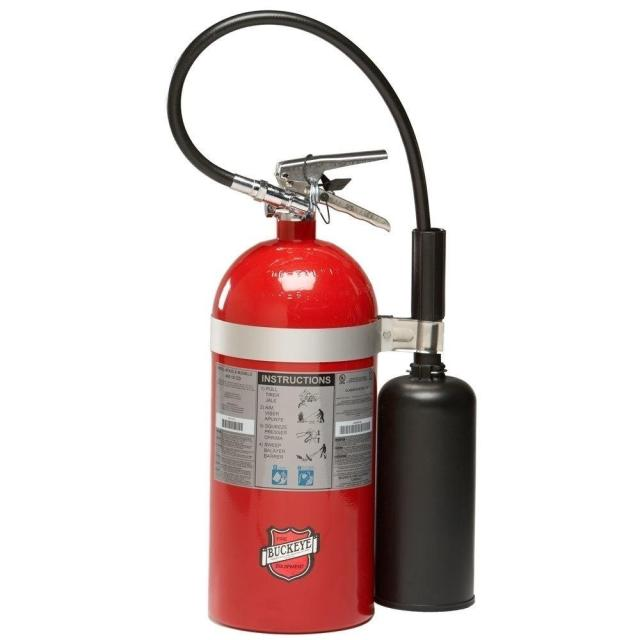fire_extinguisher: (162, 5, 482, 639)
